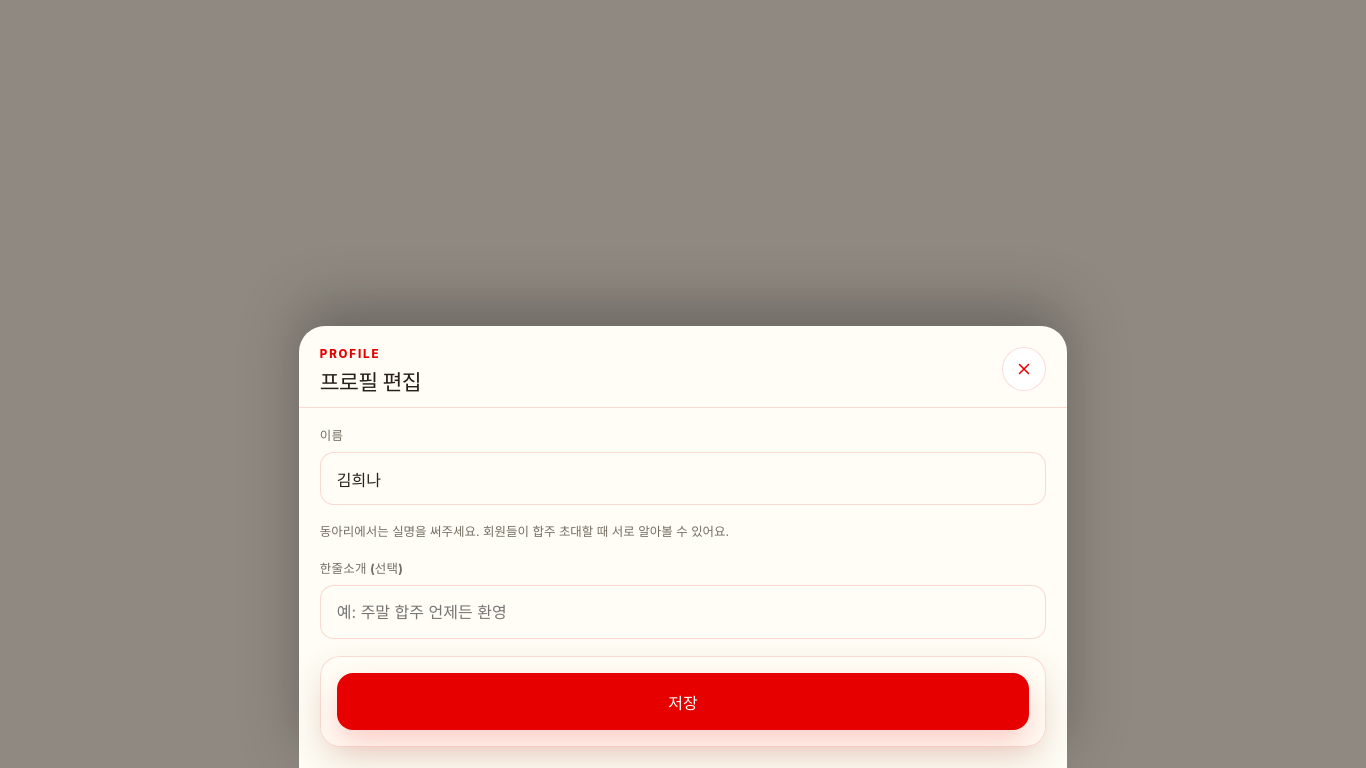
Test: ProfileSheet › 한줄소개 입력도 오류를 지운다
Click the button "저장" at (683, 702), box [337,673,1029,730]
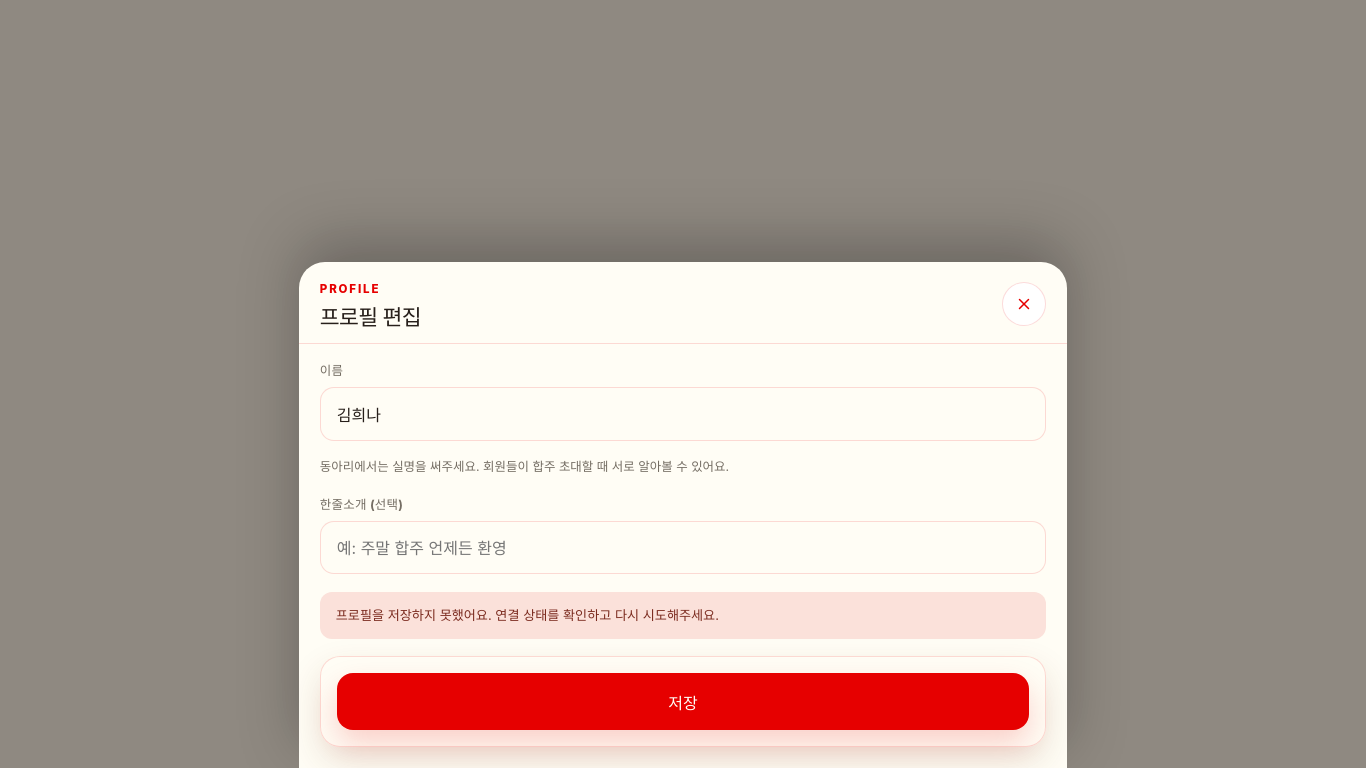
Expected: the message "프로필을 저장하지 못했어요. 연결 상태를 확인하고 다시 시도해주세요." is shown, [320,592,1046,639]
Type "안" into the field labelled "한줄소개 (선택)" at (683, 548), box [320,521,1046,574]
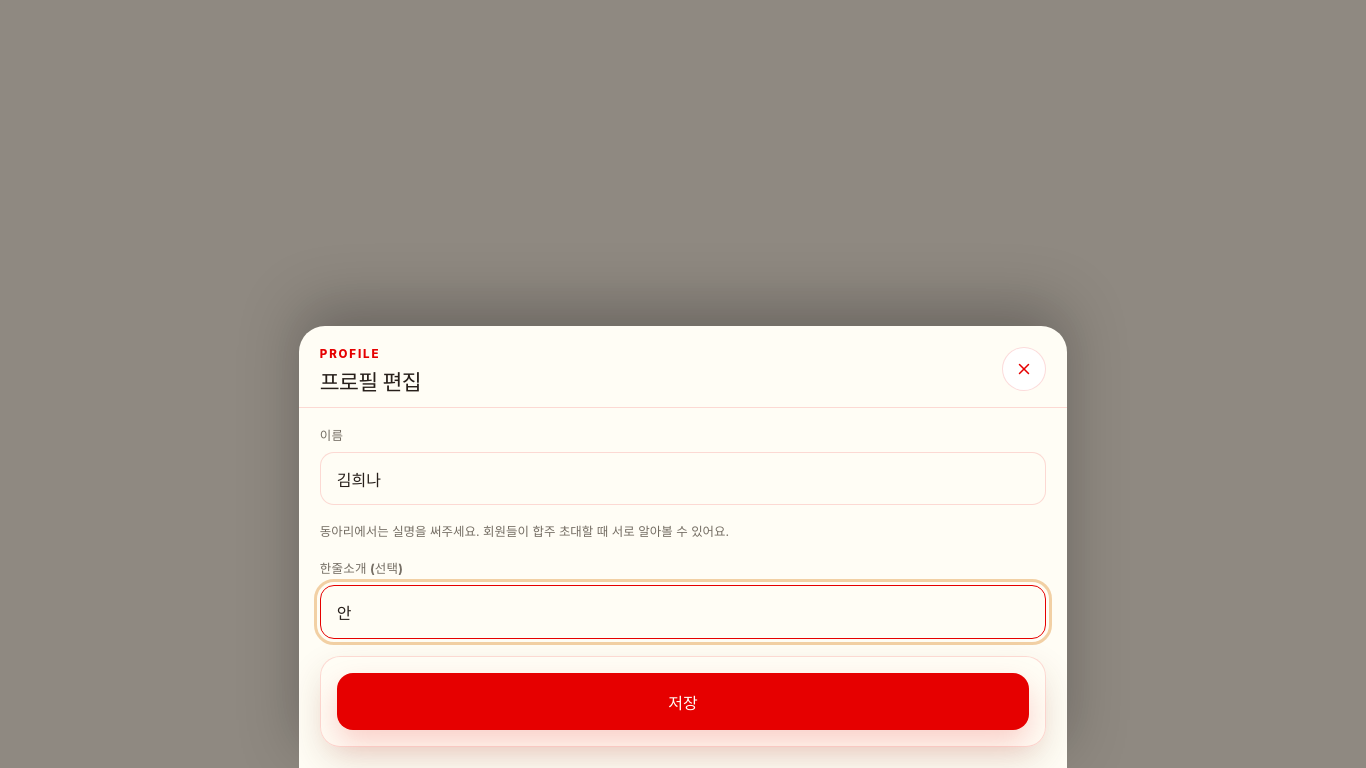
Expected: the message "프로필을 저장하지 못했어요. 연결 상태를 확인하고 다시 시도해주세요." is gone
